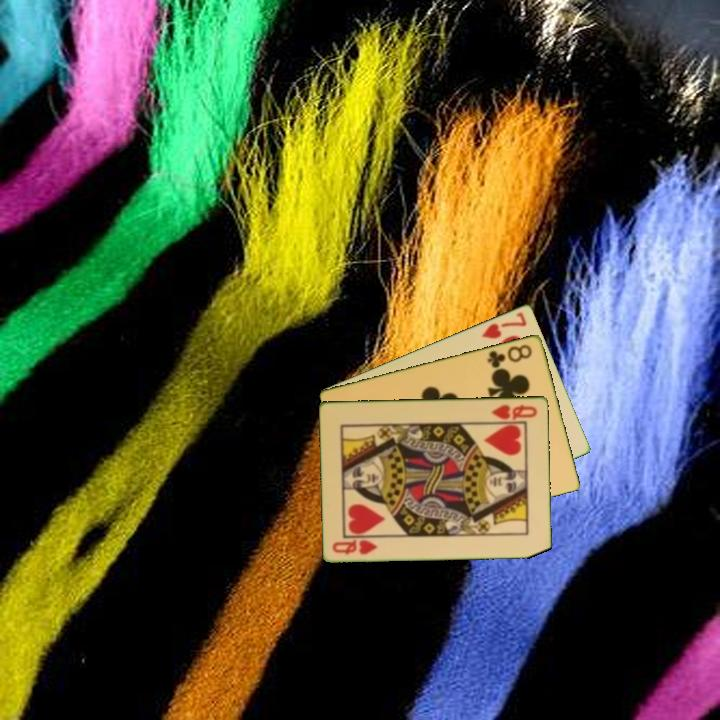7h: (478, 308, 530, 341)
8c: (484, 341, 535, 371)
Qh: (489, 400, 540, 422), (329, 535, 380, 557)
